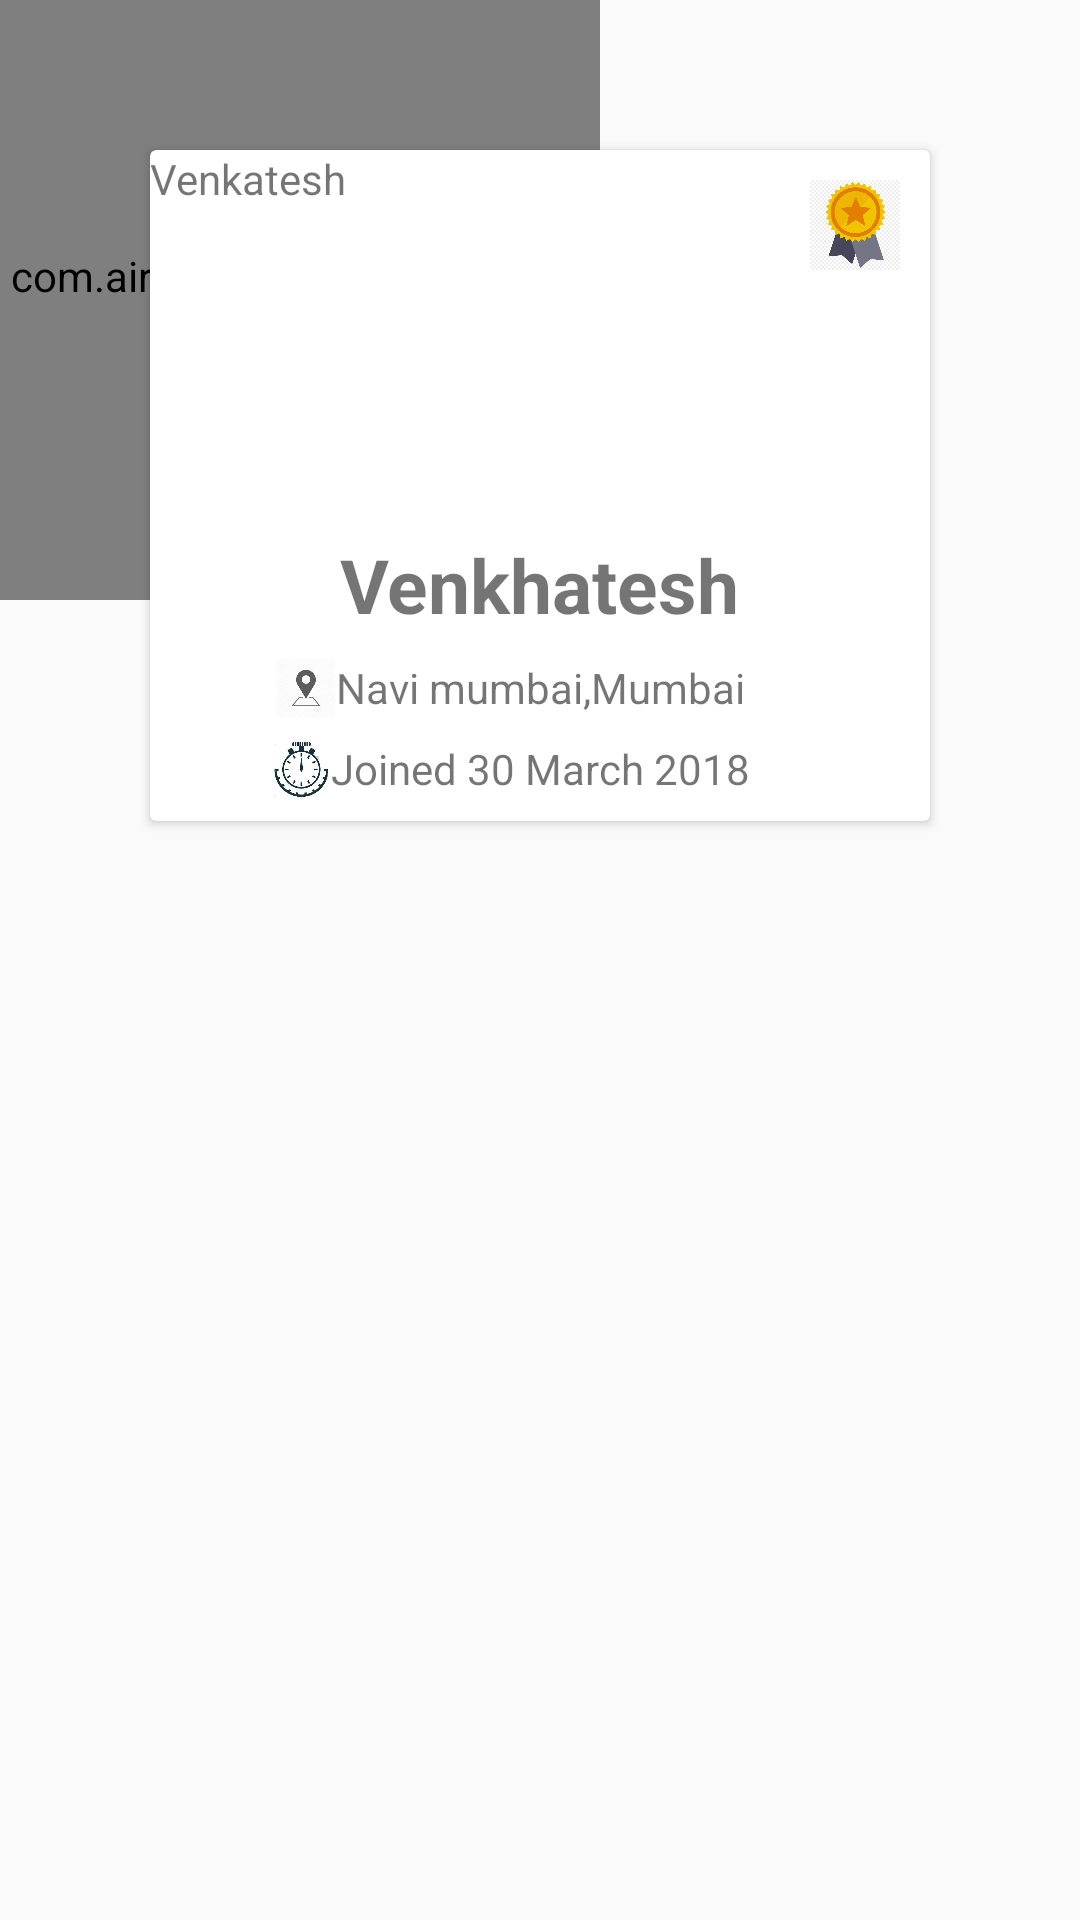

Named icons in this screenshot (1080x1920) and their centers, (x=x, y=y):
badge: (x=855, y=225)
location: (x=306, y=688)
time: (x=301, y=769)
